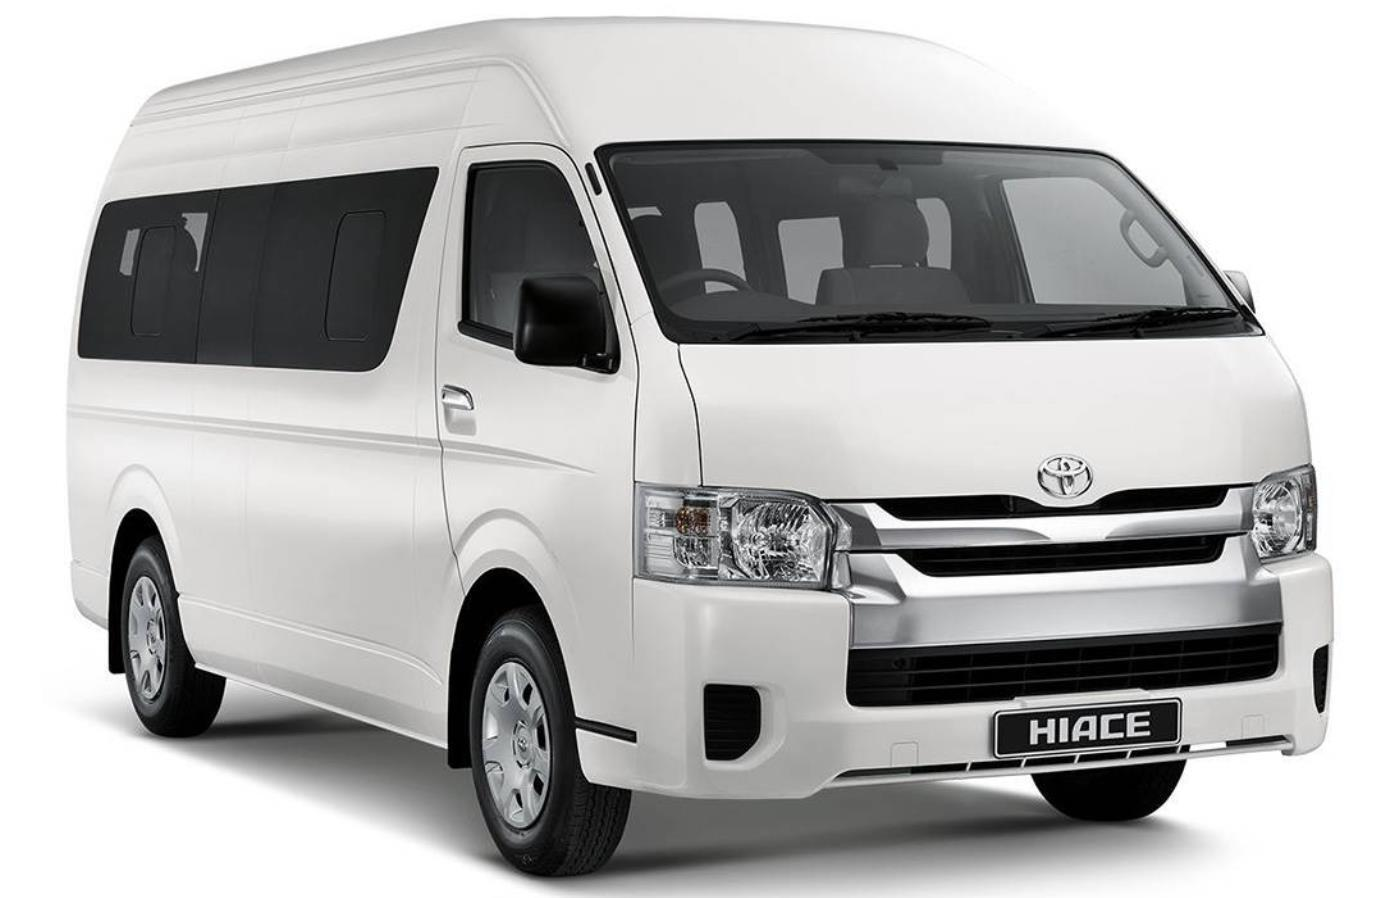Van: (71, 20, 1337, 840)
